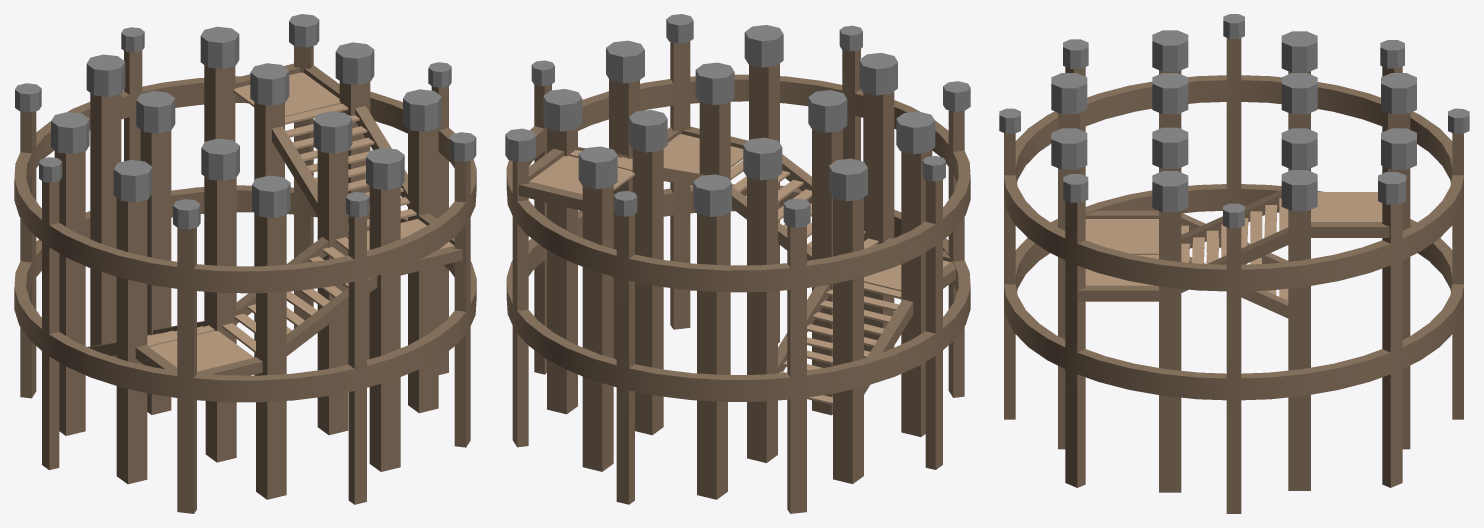
Rendered from staircase_01.fbx.
3 renders of one model, left to right at view 1: azimuth 30°, elevation 25°; view 2: azimuth 150°, elevation 25°; view 3: azimuth 270°, elevation 25°, orthographic.
Parts seen in each view (by area): view 1: exterior_frame, ground_clip (×2), interior_support_001, interior_support_007, interior_support_004, interior_support_006, steps, interior_support_009, interior_support_008, interior_support_002, interior_support_003, level_platforms (+31 smaller); view 2: exterior_frame, ground_clip (×2), interior_support_0010, interior_support_002, interior_support_0011, interior_support_001, interior_support_003, interior_support_006, interior_support_0012, steps, interior_support_004, level_platforms (+29 smaller); view 3: exterior_frame, ground_clip (×2), level_platforms, interior_support_009, interior_support_0012, steps, metal_connector_005, metal_connector_0010, metal_connector_009, metal_connector_008, metal_connector_007, metal_connector_006 (+21 smaller).
Part boxes in pixels (<box>): exterior_frame: <box>14,46,476,443</box>; ground_clip (×2): <box>20,290,470,513</box>; interior_support_001: <box>90,93,121,307</box>; interior_support_007: <box>369,186,400,401</box>; interior_support_004: <box>116,198,147,413</box>; interior_support_006: <box>256,214,286,429</box>; steps: <box>147,103,416,353</box>; interior_support_009: <box>408,128,438,340</box>; interior_support_008: <box>317,150,348,364</box>; interior_support_002: <box>140,130,171,335</box>; interior_support_003: <box>54,150,85,345</box>; level_platforms: <box>149,72,453,371</box>; exterior_frame: <box>506,41,970,443</box>; ground_clip (×2): <box>512,254,964,513</box>; interior_support_0010: <box>632,148,663,364</box>; interior_support_002: <box>747,176,777,374</box>; interior_support_0011: <box>582,185,613,400</box>; interior_support_001: <box>697,213,727,428</box>; interior_support_003: <box>833,197,863,413</box>; interior_support_006: <box>863,91,894,302</box>; interior_support_0012: <box>547,128,577,341</box>; steps: <box>569,150,901,404</box>; interior_support_004: <box>901,149,932,366</box>; level_platforms: <box>529,134,950,291</box>; exterior_frame: <box>1004,38,1463,443</box>; ground_clip (×2): <box>1004,349,1463,513</box>; level_platforms: <box>1085,192,1382,285</box>; interior_support_009: <box>1159,211,1181,421</box>; interior_support_0012: <box>1288,209,1310,420</box>; steps: <box>1110,198,1288,300</box>; metal_connector_005: <box>1152,30,1188,71</box>; metal_connector_0010: <box>1051,73,1087,114</box>; metal_connector_009: <box>1051,128,1087,169</box>; metal_connector_008: <box>1152,73,1188,114</box>; metal_connector_007: <box>1152,127,1188,168</box>; metal_connector_006: <box>1152,171,1188,212</box>.
Size of the model in its own units: 1973 by 1429 by 1973.
